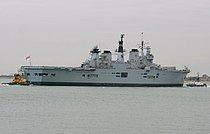MIL_Ship: (20, 32, 190, 87)
